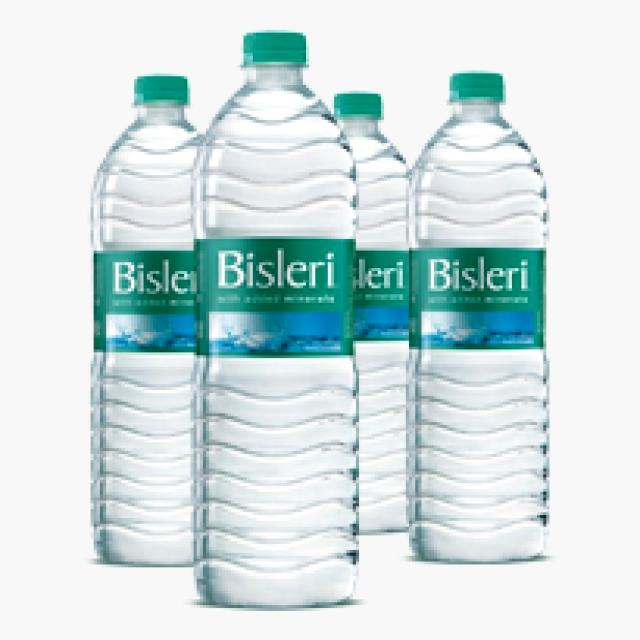full-bottle: (77, 29, 557, 613)
